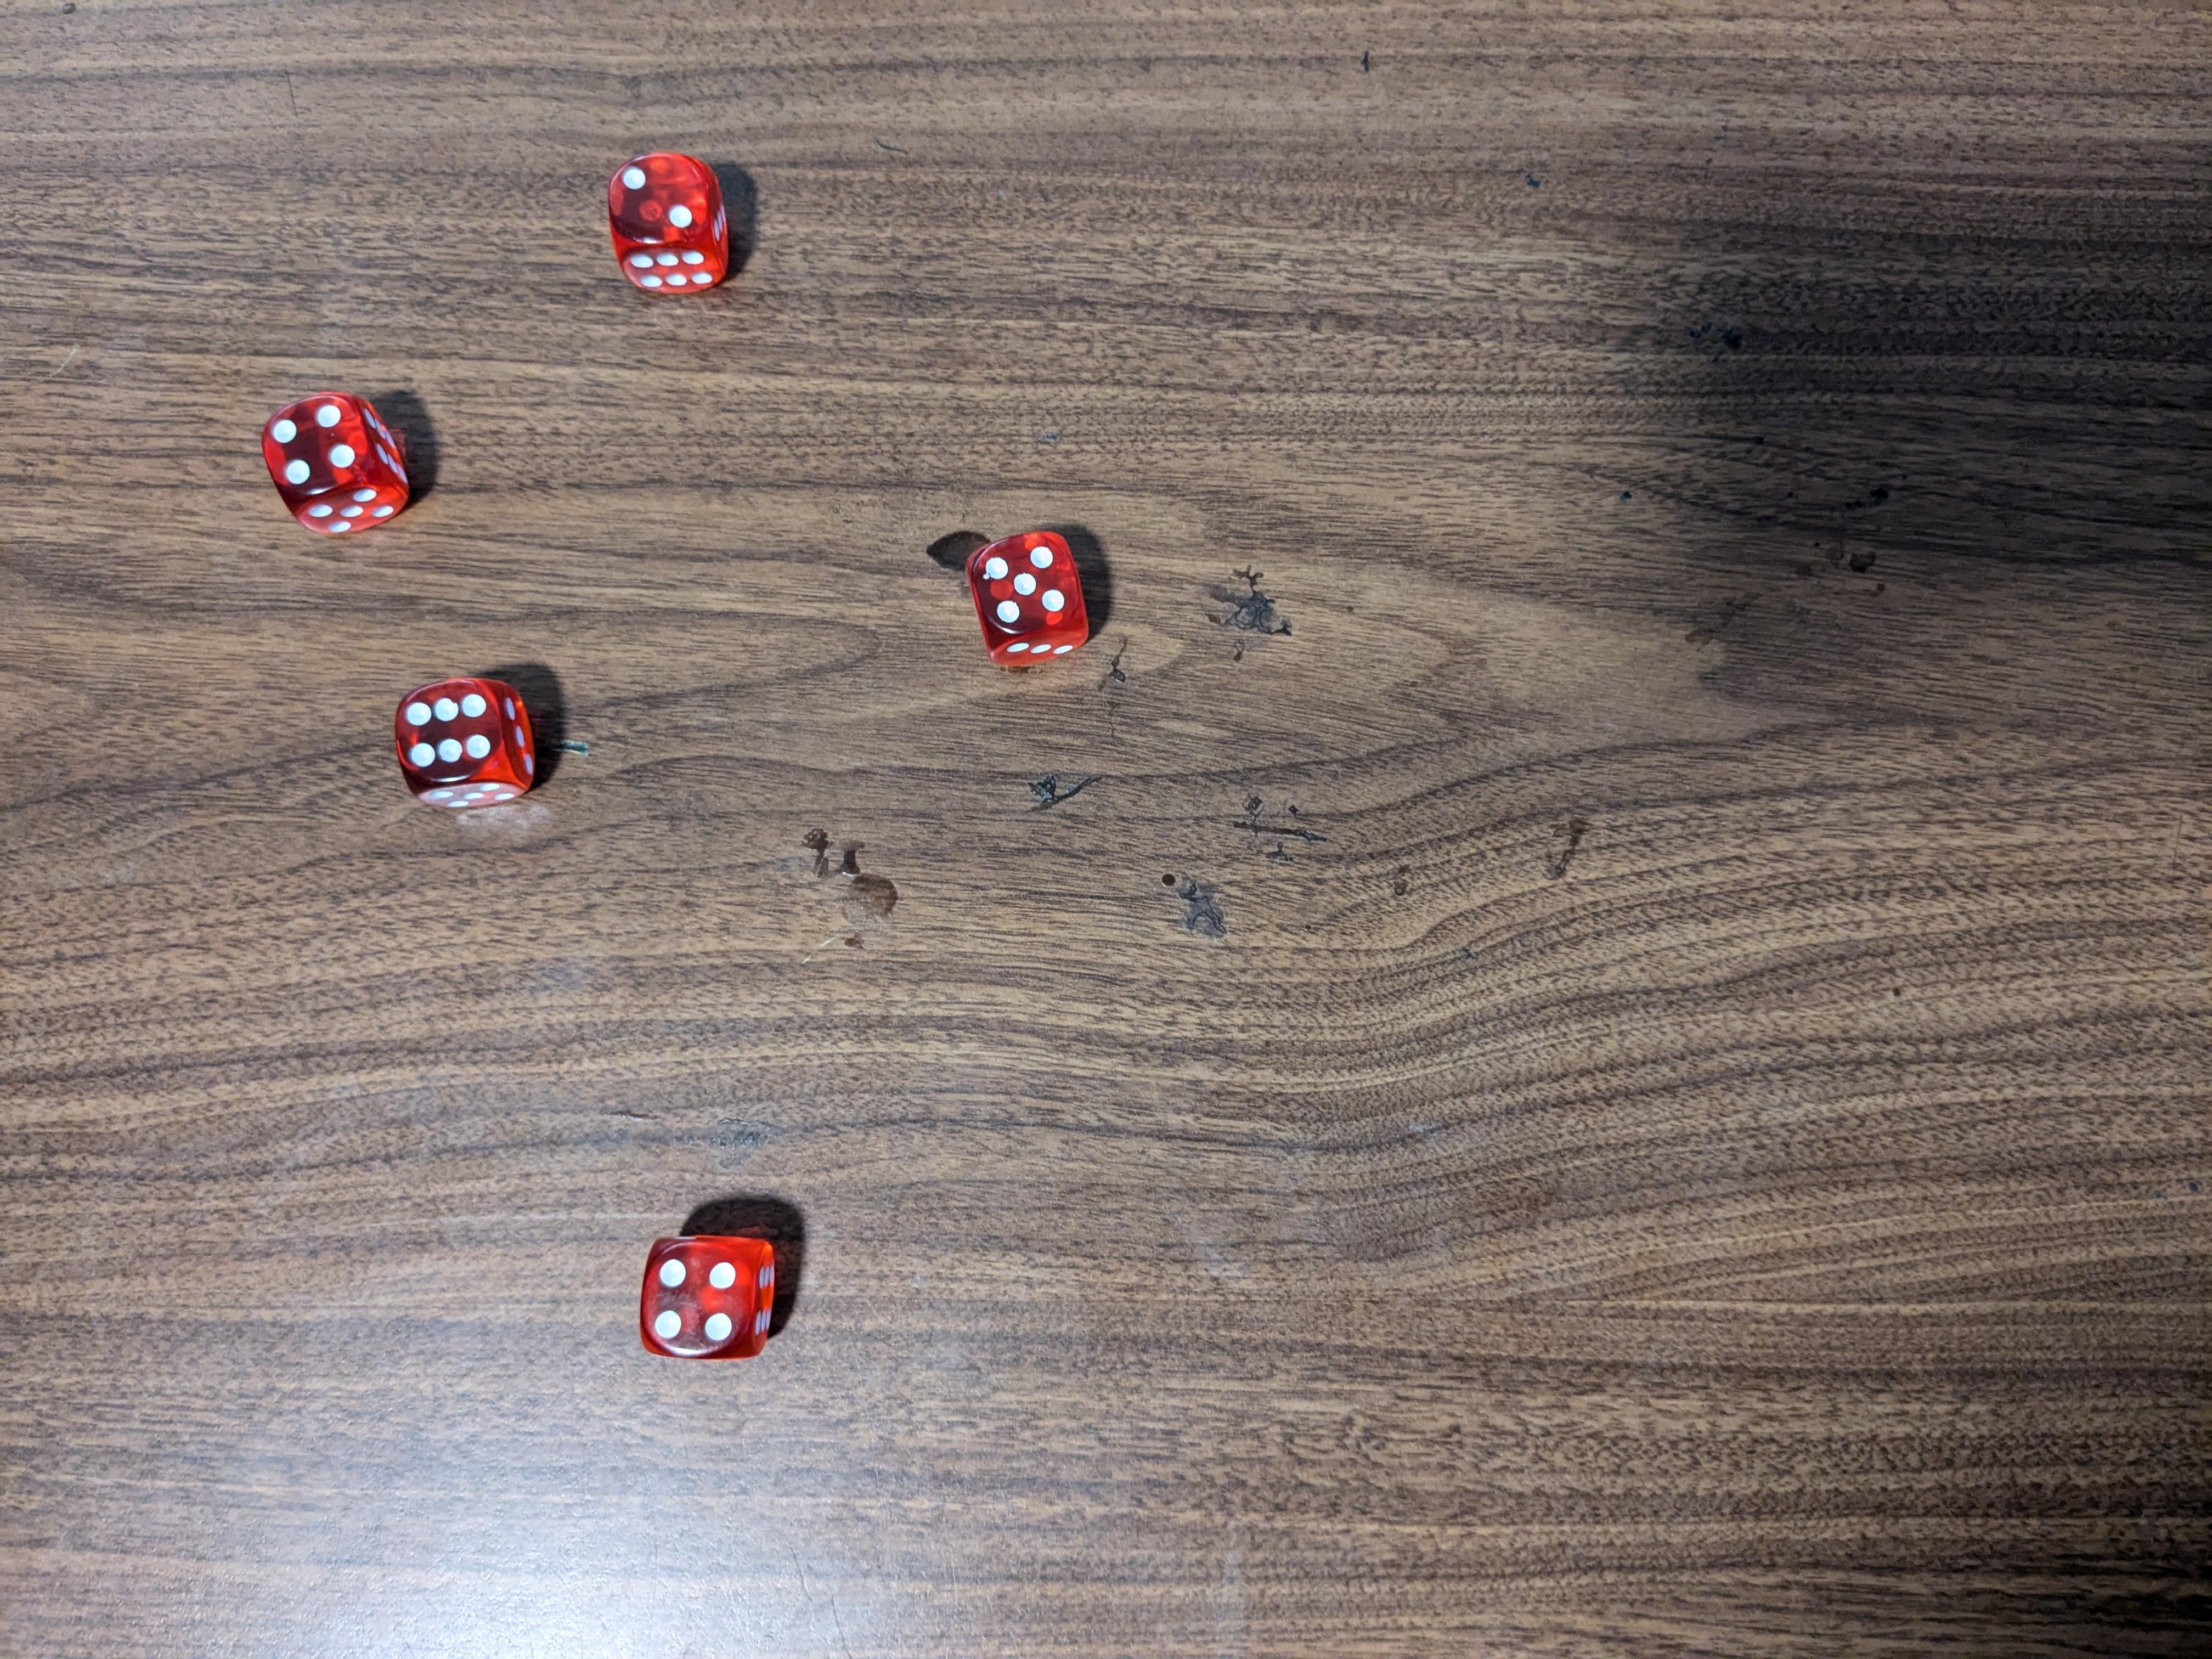five: (968, 526, 1090, 669)
four: (254, 390, 415, 540), (632, 1229, 782, 1363)
six: (388, 671, 547, 814)
two: (610, 152, 733, 296)
